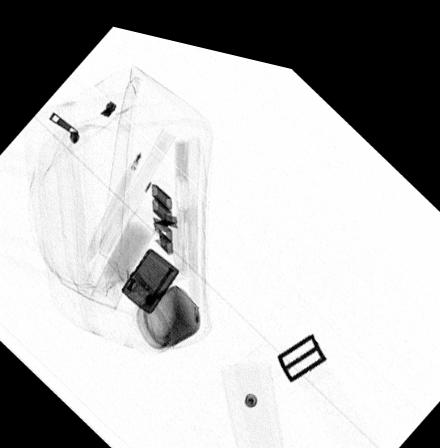Lighter: (118, 239, 179, 305)
